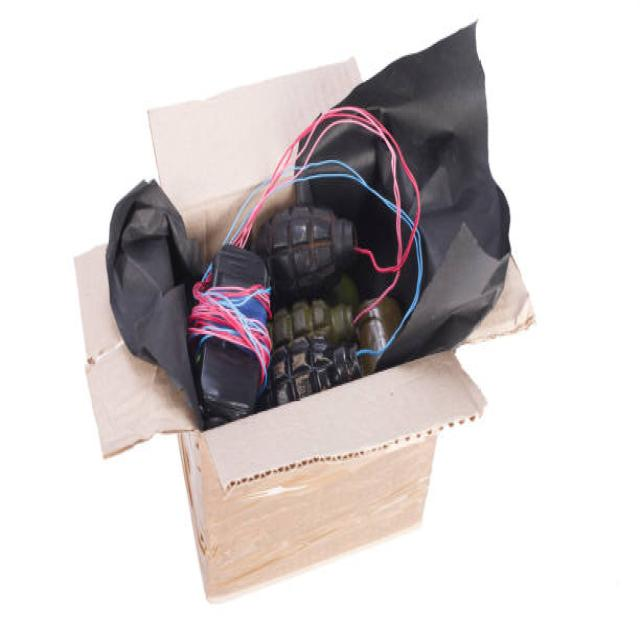grenade: (249, 199, 361, 299), (264, 330, 366, 404)
